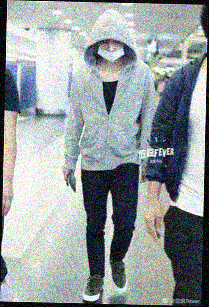mask_weared_incorrect: (97, 37, 125, 63)
